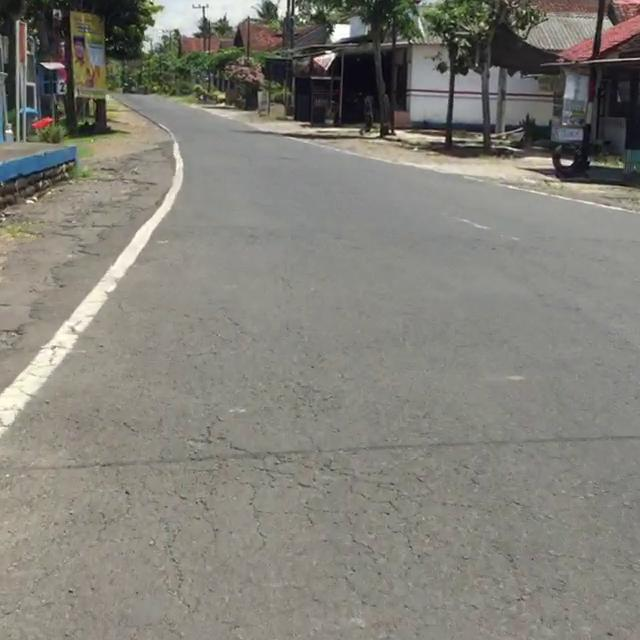retak_kulit_buaya: (160, 407, 414, 567)
